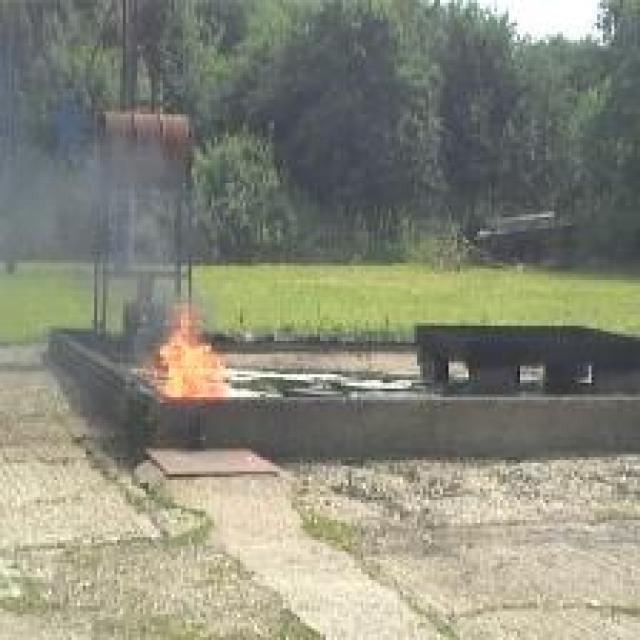Fire: (160, 303, 234, 400)
